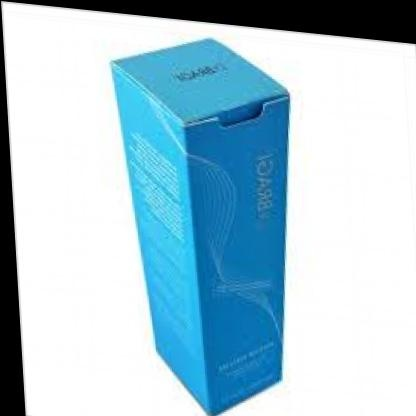trash: (112, 39, 288, 412)
